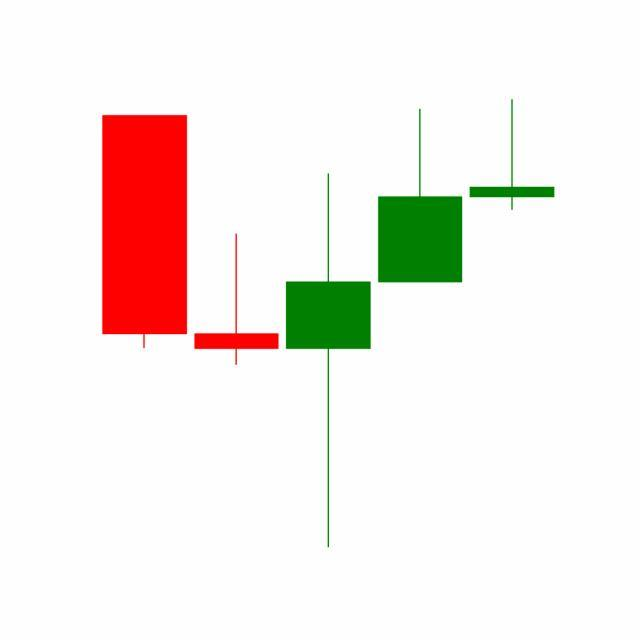Gravestone Doji: (466, 98, 559, 212)
